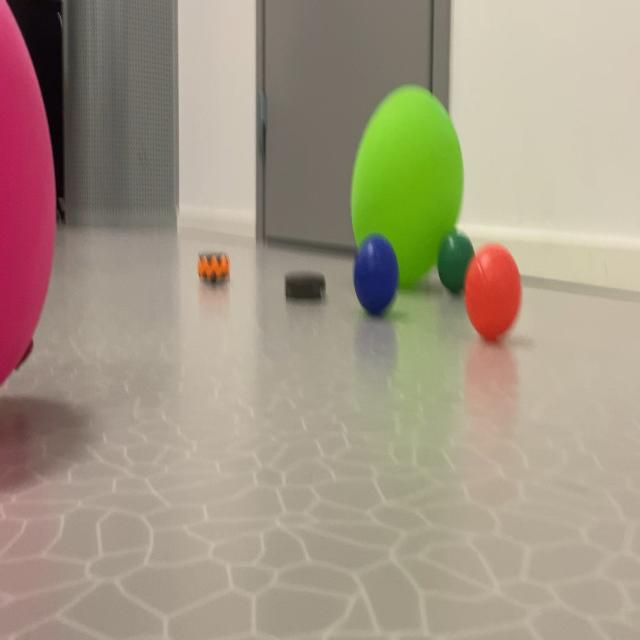7: (462, 241, 523, 348)
blue ball: (348, 208, 530, 350)
green ball: (351, 227, 399, 330)
red ball: (436, 214, 481, 301)
